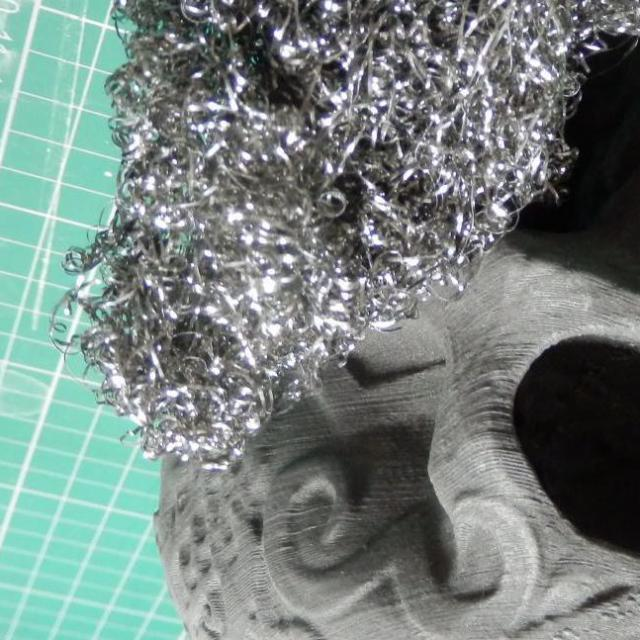spaghetti: (90, 275, 278, 446), (359, 32, 541, 200), (114, 13, 218, 250), (254, 180, 424, 320), (208, 9, 354, 169)
